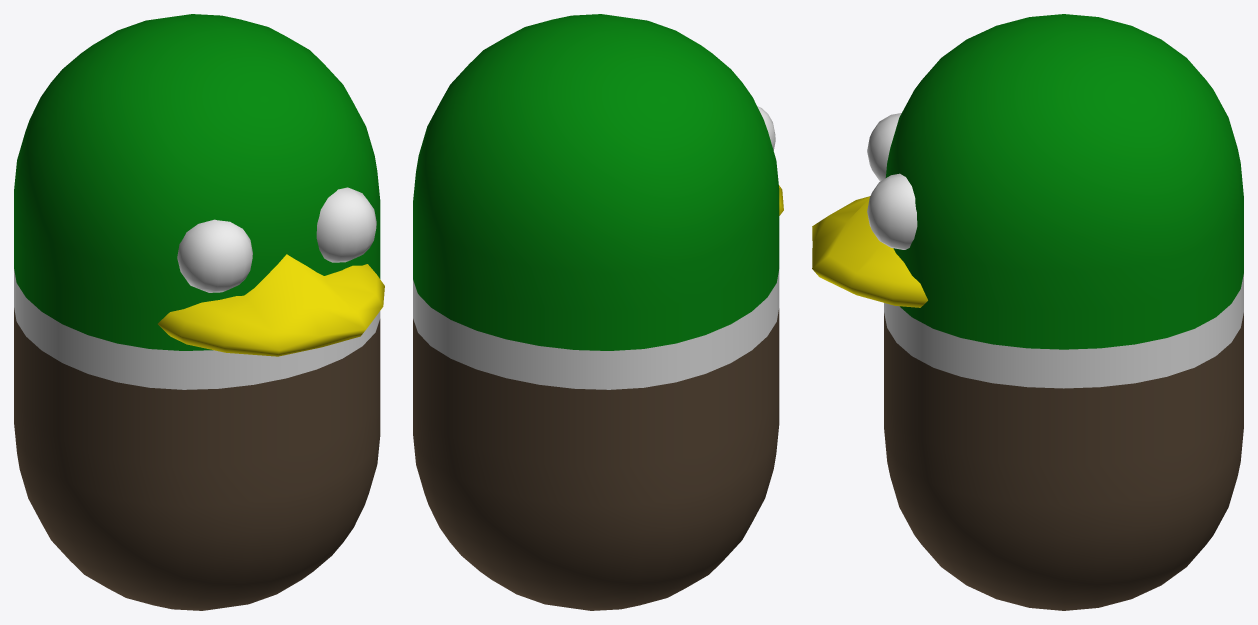
The model's file is DebugDuck.fbx.
3 renders of one model, left to right at view 1: azimuth 30°, elevation 25°; view 2: azimuth 150°, elevation 25°; view 3: azimuth 270°, elevation 25°, orthographic.
Parts seen in each view (by area): view 1: Cube, Cube.001; view 2: Cube; view 3: Cube, Cube.001.
Boxes of the visible parts, bbox=[...] form: Cube: bbox=[14, 14, 384, 610]; Cube.001: bbox=[177, 187, 376, 292]; Cube: bbox=[413, 14, 783, 610]; Cube: bbox=[812, 14, 1243, 610]; Cube.001: bbox=[867, 113, 917, 249].
Size of the model in its own units: 0.9906 by 1.19 by 1.7.
